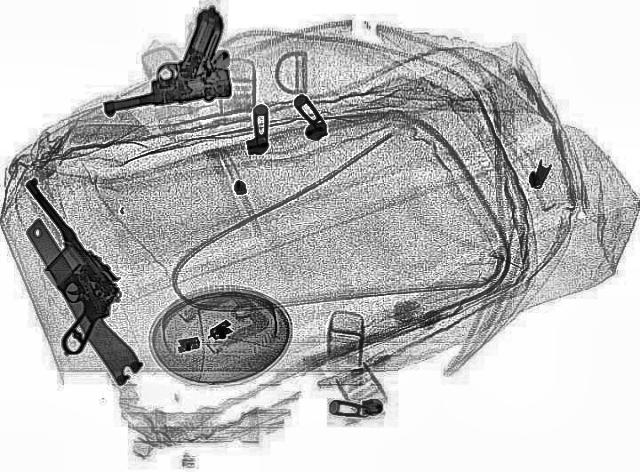Gun: (78, 5, 244, 115), (0, 206, 140, 334)
